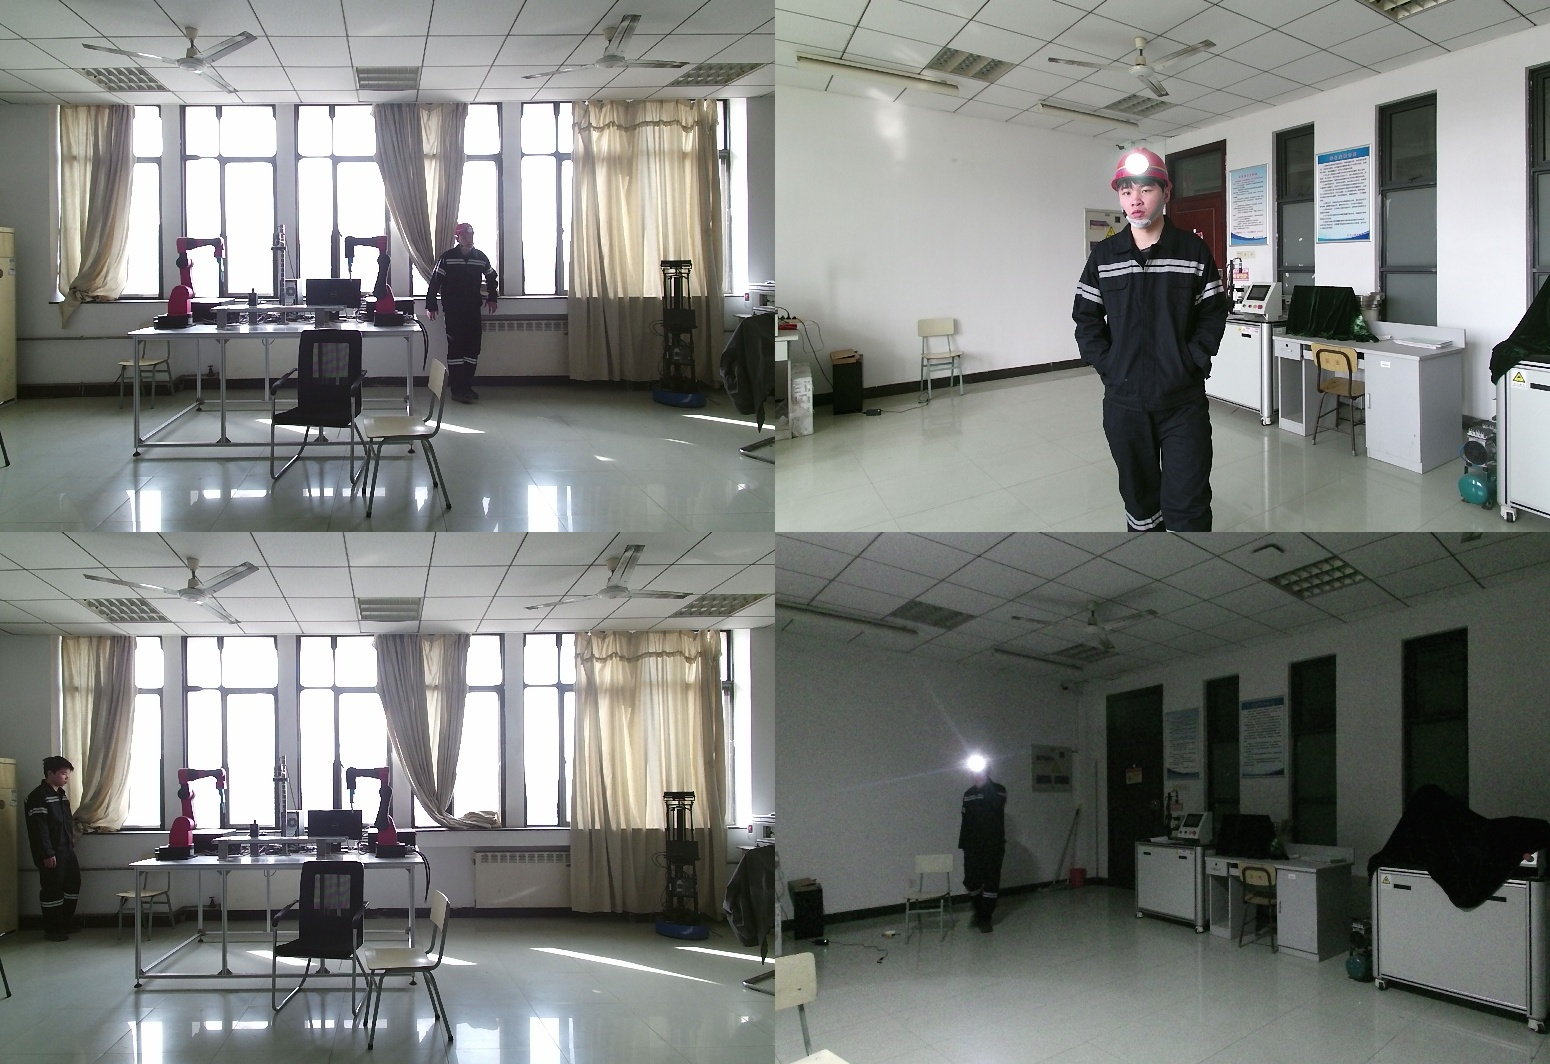person: (1075, 153, 1242, 532), (427, 225, 502, 413), (18, 756, 81, 943), (956, 756, 1019, 940)
